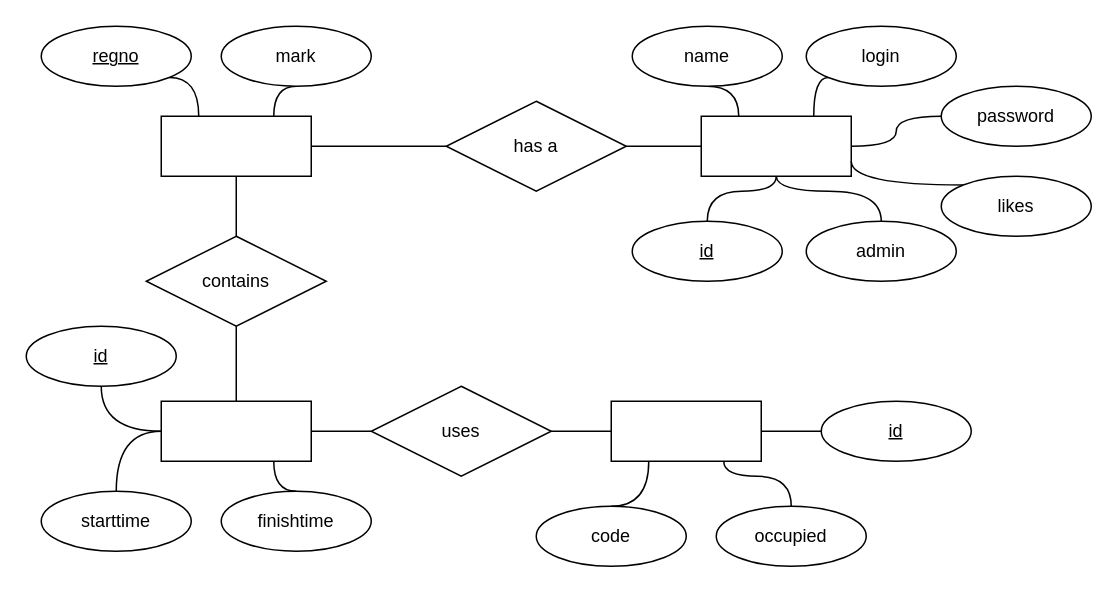
Image size: 1118x593. Some labels were removed from this diagram. The shapes that lost their labels are listed below. From the top down, each one's centre as x and y in pixels, then its label:
At [235,145]: "Car".
At [775,145]: "User".
At [235,430]: "Parking Order".
At [685,430]: "Parking Space".
